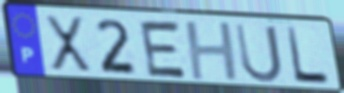2: (97, 18, 140, 76)
E: (137, 19, 190, 81)
H: (182, 20, 242, 82)
L: (284, 25, 332, 86)
U: (233, 22, 285, 85)
X: (42, 13, 95, 76)
